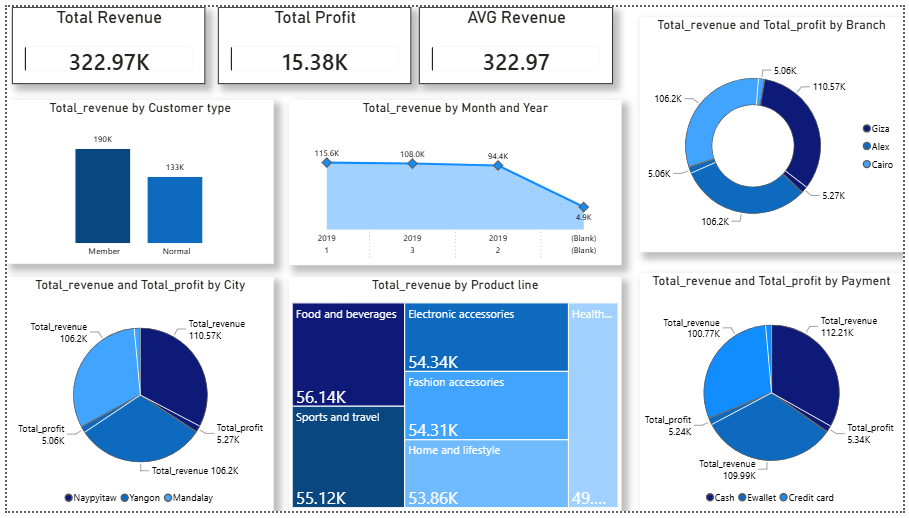

This screenshot's page, from the dashboard's own definition file:
{"tool":"powerbi","page":{"name":"Page 1","canvas":[1280,720],"ordinal":0},"visuals":[{"type":"cardVisual","title":"Total Revenue","fields":{"Data":["SuperMarket_CleanedData.Total_revenue"]},"box":[6.8,0,276.1,110.3],"z":0,"group":"g1"},{"type":"cardVisual","title":"Total Profit","fields":{"Data":["SuperMarket_CleanedData.Total_profit"]},"box":[302.1,0,276.1,110.3],"z":1000,"group":"g1"},{"type":"pieChart","fields":{"Category":["SuperMarket_CleanedData.City"],"Y":["SuperMarket_CleanedData.Total_revenue","SuperMarket_CleanedData.Total_profit"]},"box":[0,385.5,381.1,334.5],"z":2000,"group":"g1"},{"type":"donutChart","fields":{"Category":["SuperMarket_CleanedData.Branch"],"Y":["SuperMarket_CleanedData.Total_revenue","SuperMarket_CleanedData.Total_profit"]},"box":[904,13.6,376,336.2],"z":3000,"group":"g1"},{"type":"treemap","fields":{"Group":["SuperMarket_CleanedData.Product line"],"Values":["SuperMarket_CleanedData.Total_revenue"]},"box":[403.3,385.5,475.1,334.5],"z":4000,"group":"g1"},{"type":"pieChart","fields":{"Category":["SuperMarket_CleanedData.Payment"],"Y":["SuperMarket_CleanedData.Total_revenue","SuperMarket_CleanedData.Total_profit"]},"box":[904,380.4,376,339.6],"z":5000,"group":"g1"},{"type":"cardVisual","title":"AVG Revenue","fields":{"Data":["SuperMarket_CleanedData.Avg_of_Sales"]},"box":[587.9,0,276.8,110.4],"z":6001,"group":"g1"},{"type":"clusteredColumnChart","fields":{"Category":["SuperMarket_CleanedData.Customer type"],"Y":["SuperMarket_CleanedData.Total_revenue"]},"box":[0,132.5,381.1,234.3],"z":6002,"group":"g1"},{"type":"lineChart","fields":{"Category":["SuperMarket_CleanedData.Month","SuperMarket_CleanedData.Year"],"Y":["SuperMarket_CleanedData.Total_revenue"]},"box":[403.3,132.5,475.1,236],"z":6003,"group":"g1"},{"type":"group","id":"g1","title":"Group 1","box":[0,0,1280,720],"z":6004}]}

Visuals, with their boxes in screenshot pixels (x1, y1, x2, y2), scaled from the page's 1280x720 canvas onto the 909x518 screenshot:
"Total Revenue" cardVisual: detection(5, 0, 201, 79)
"Total Profit" cardVisual: detection(215, 0, 411, 79)
pieChart - SuperMarket_CleanedData.City x SuperMarket_CleanedData.Total_revenue: detection(0, 277, 271, 517)
donutChart - SuperMarket_CleanedData.Branch x SuperMarket_CleanedData.Total_revenue: detection(642, 10, 908, 252)
treemap - SuperMarket_CleanedData.Product line x SuperMarket_CleanedData.Total_revenue: detection(286, 277, 624, 517)
pieChart - SuperMarket_CleanedData.Payment x SuperMarket_CleanedData.Total_revenue: detection(642, 274, 908, 517)
"AVG Revenue" cardVisual: detection(418, 0, 614, 79)
clusteredColumnChart - SuperMarket_CleanedData.Customer type x SuperMarket_CleanedData.Total_revenue: detection(0, 95, 271, 264)
lineChart - SuperMarket_CleanedData.Month x SuperMarket_CleanedData.Year: detection(286, 95, 624, 265)
"Group 1" group: detection(0, 0, 908, 517)
